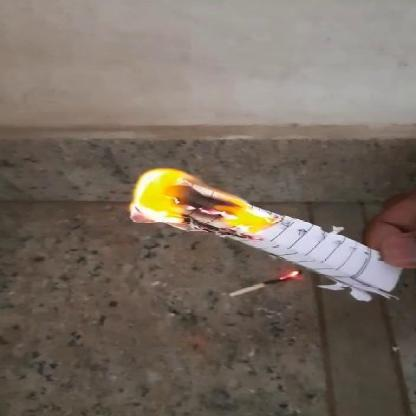Fire: (119, 172, 279, 242)
